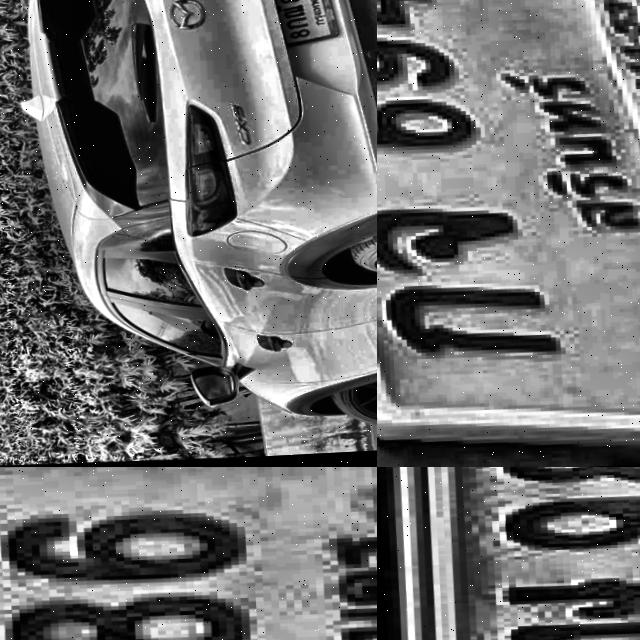license-plate: (377, 0, 640, 467), (0, 467, 377, 640), (377, 467, 640, 640), (258, 0, 340, 52)
